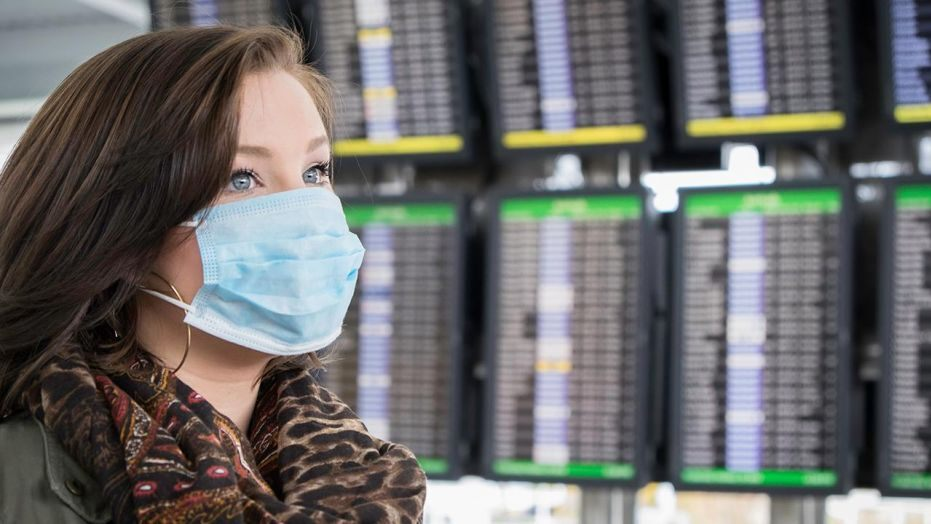surgical: (177, 186, 370, 360)
